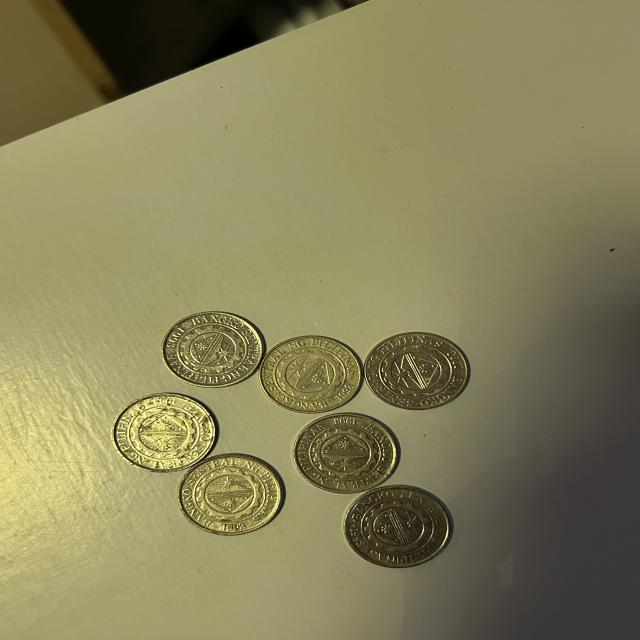1_Old_Back: (356, 498, 439, 554), (376, 344, 456, 398), (122, 405, 205, 457), (270, 347, 348, 399), (310, 424, 383, 479), (175, 324, 250, 375), (190, 472, 269, 520)
